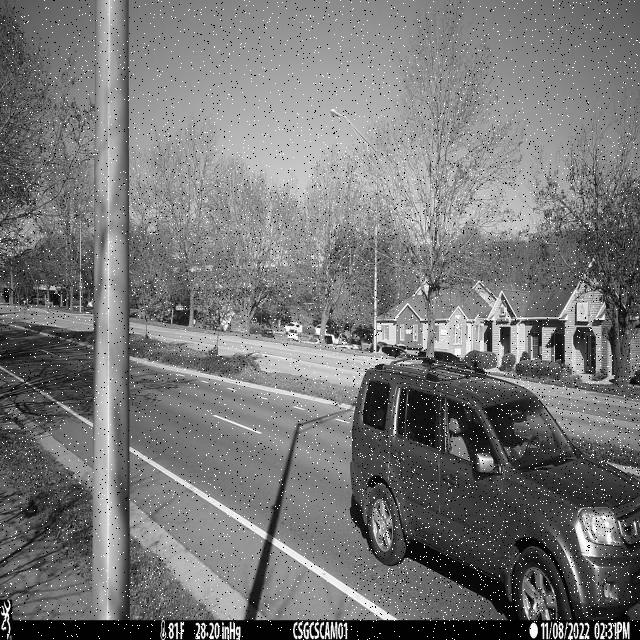SUV: (352, 355, 640, 622)
